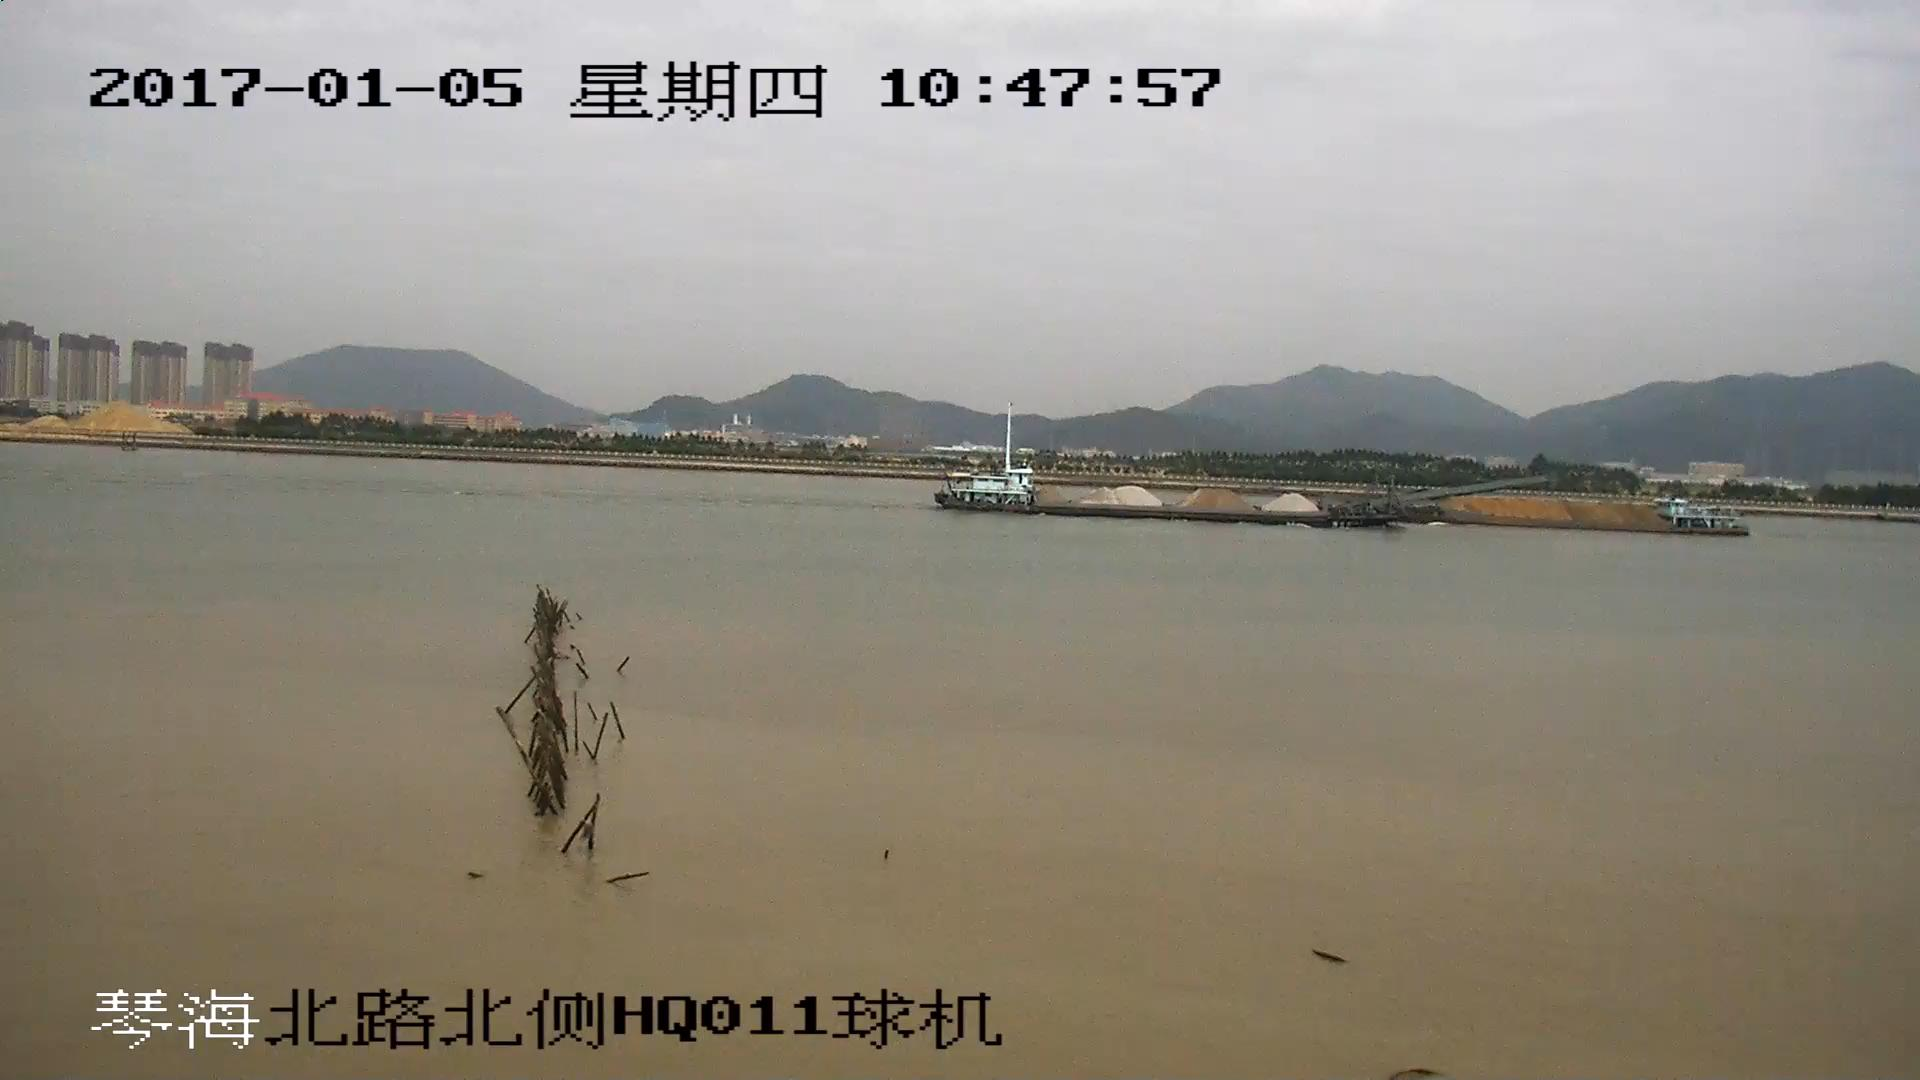ore carrier: (938, 414, 1544, 526), (1448, 500, 1750, 538)
